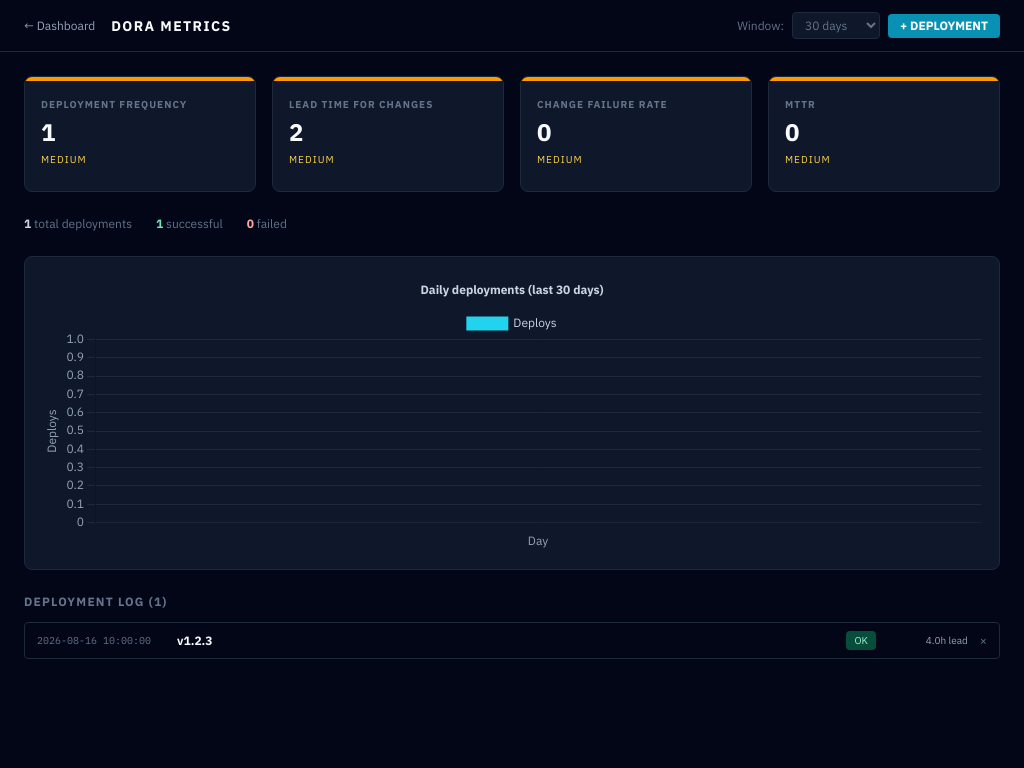
it: DORADashboard › keeps the deployment when the dialog is cancelled
This screenshot has width=1024, height=768.
Click the button named "Delete deployment". click: (983, 640)
box: [980, 632, 987, 648]
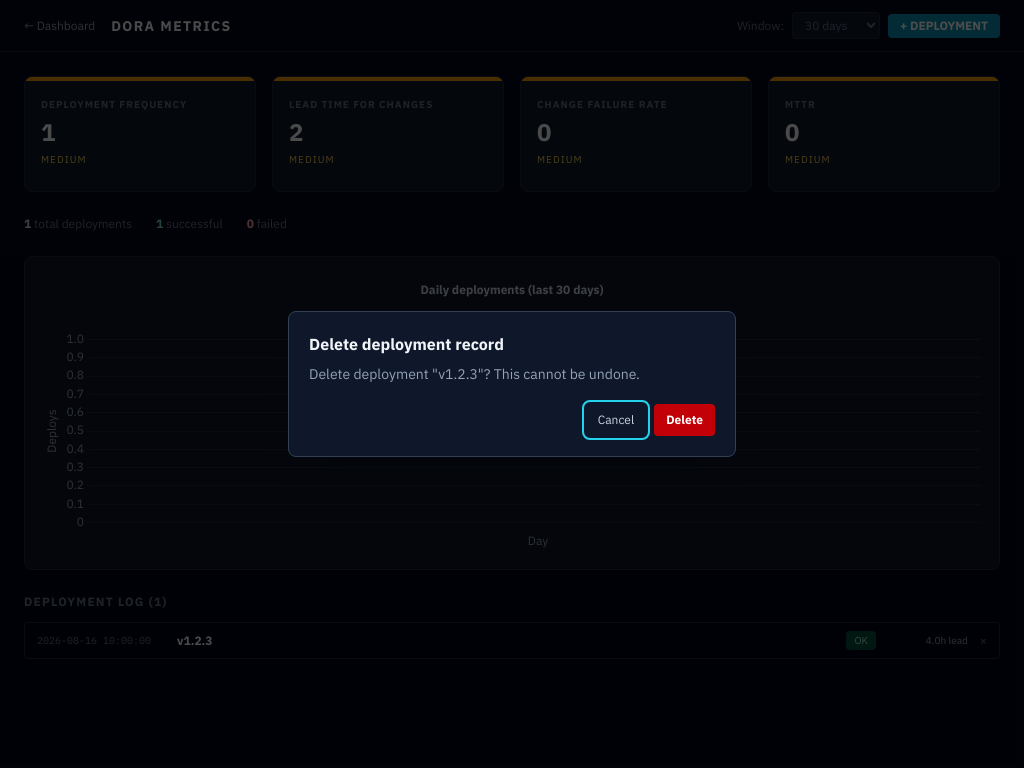
Click the button "Cancel". click: (616, 420)
box: [586, 404, 646, 436]
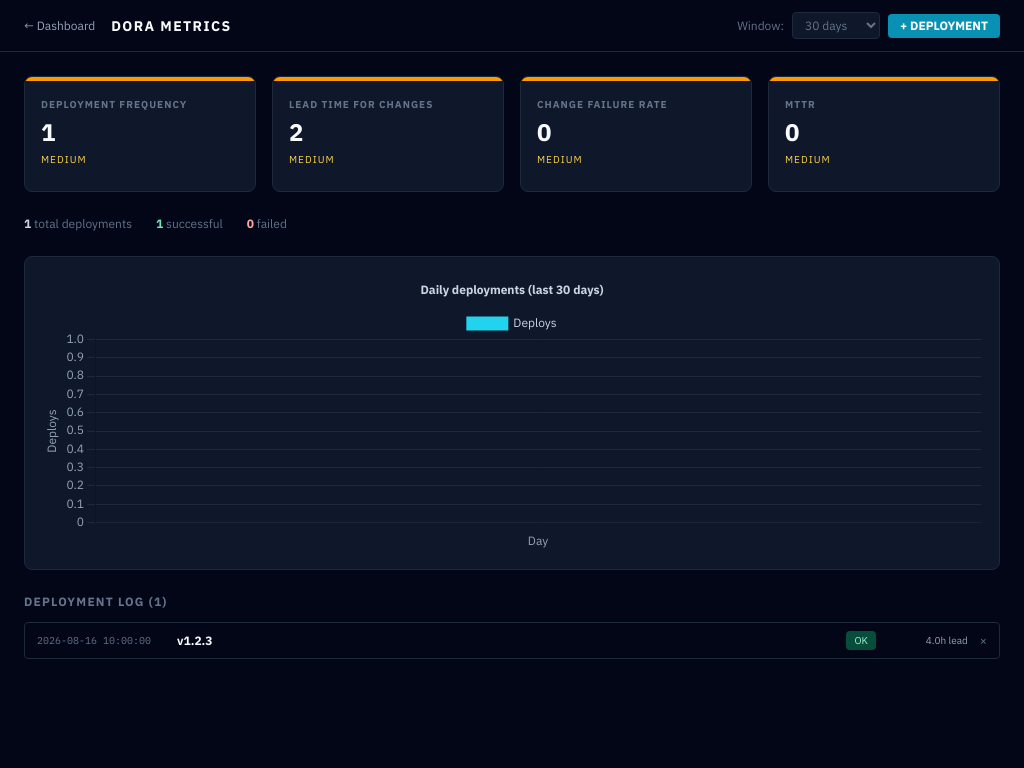
Expected: the dialog is gone
